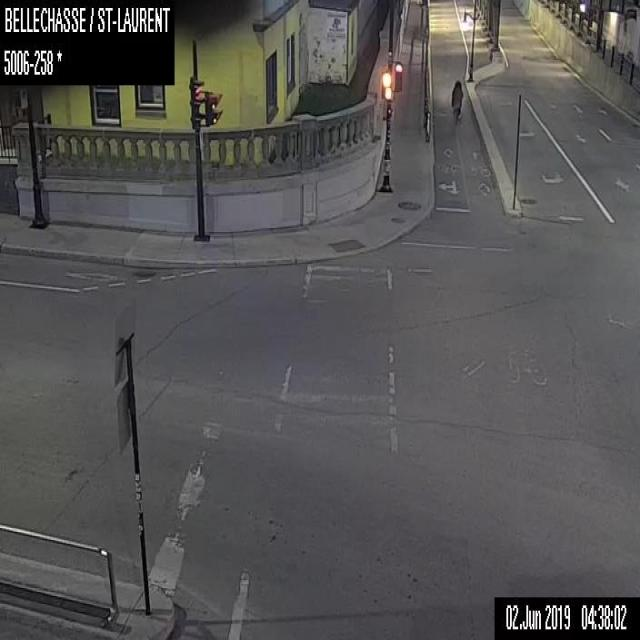cyclist: (450, 80, 462, 123)
